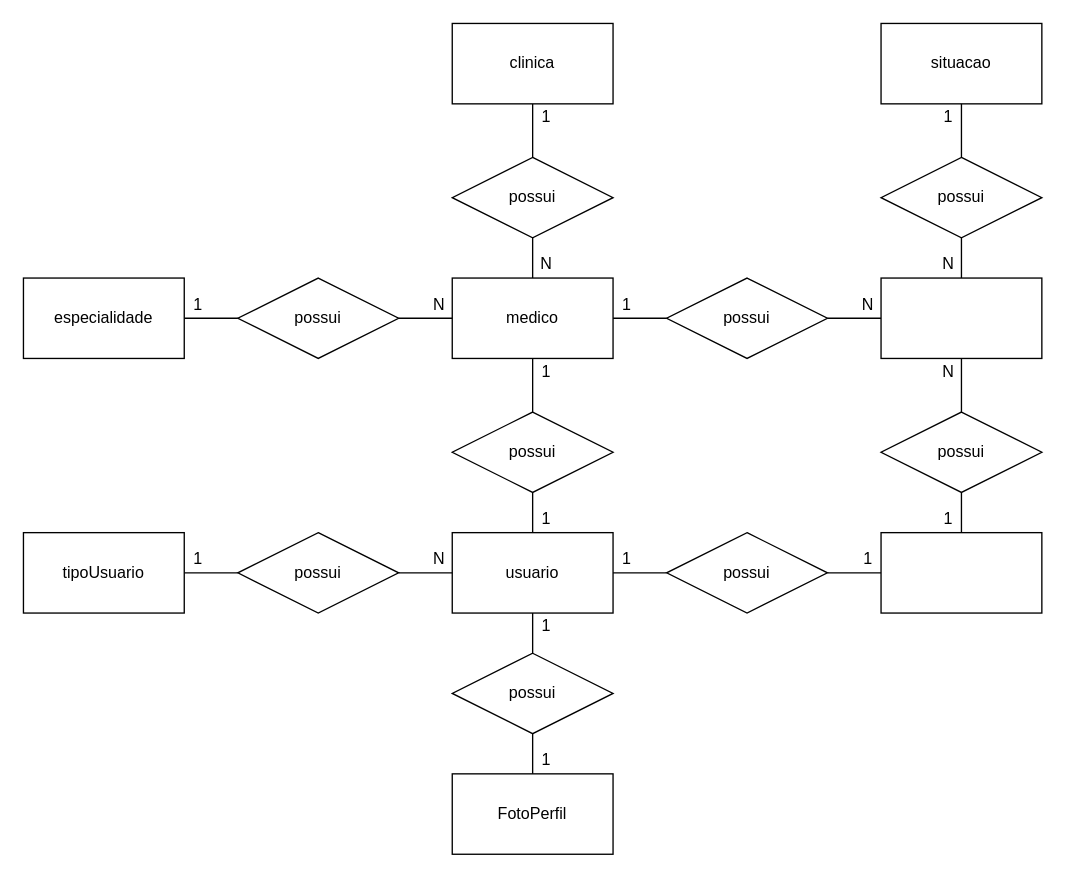
This 1065x878 diagram has some shape labels left out. The shapes that lost their labels are listed below. From the top down, each one's box as (x1, y1, x2, y2) in pixels, then its label:
(880, 277, 1042, 358): consulta
(880, 531, 1042, 613): paciente
